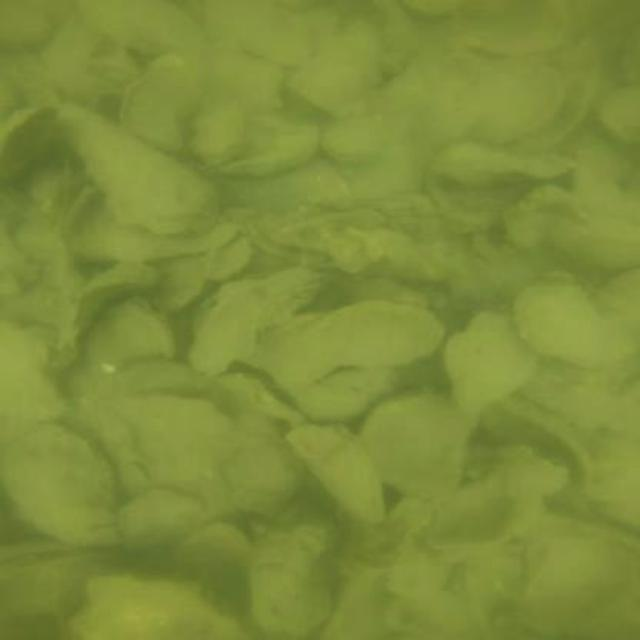Oyster-Closed: (104, 395, 235, 506), (256, 301, 442, 379), (192, 267, 324, 371), (7, 422, 117, 543), (65, 567, 247, 635), (360, 390, 464, 497), (248, 512, 338, 635), (474, 60, 596, 148), (72, 200, 244, 262), (285, 424, 381, 524), (70, 0, 213, 67), (445, 310, 536, 414), (512, 279, 621, 365), (293, 16, 384, 118), (118, 56, 198, 154), (0, 318, 73, 421), (199, 120, 322, 179), (432, 144, 580, 190), (88, 297, 177, 369), (298, 368, 414, 420), (120, 487, 211, 551), (453, 1, 560, 52), (227, 432, 297, 509), (490, 443, 569, 508), (0, 106, 58, 178), (192, 99, 244, 165)
Oyster-Open: (64, 109, 216, 233)
